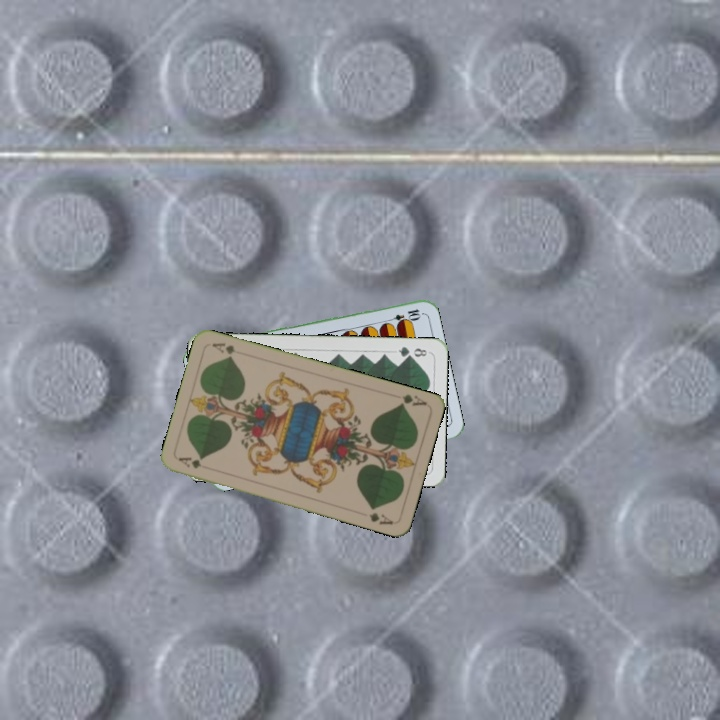E10: (383, 305, 423, 326)
G8: (394, 342, 431, 360)
GA: (394, 390, 429, 409), (175, 453, 204, 471)
